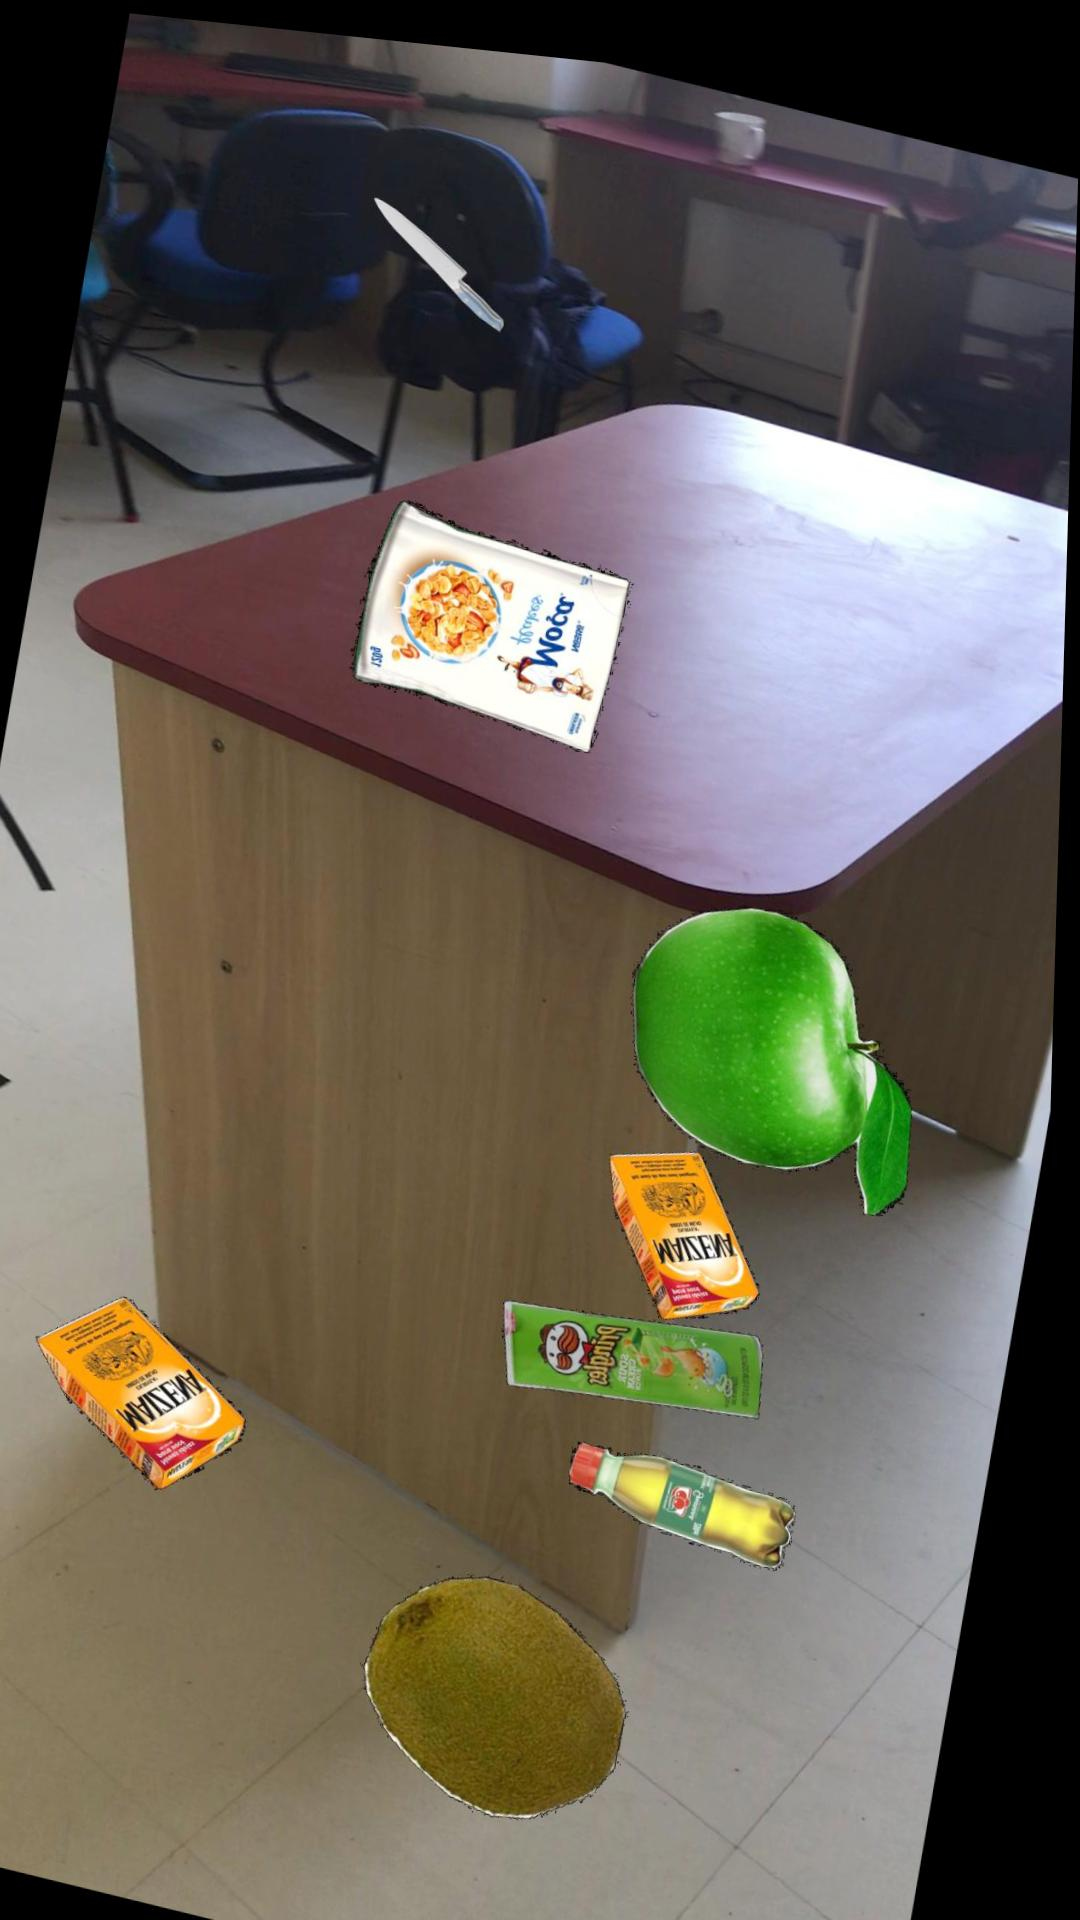corn flakes: (352, 489, 632, 738)
green apple: (637, 886, 918, 1193)
guarana: (576, 1425, 803, 1548)
kiwi: (372, 1561, 636, 1804)
knife: (373, 187, 505, 319)
pringles: (508, 1286, 770, 1399)
